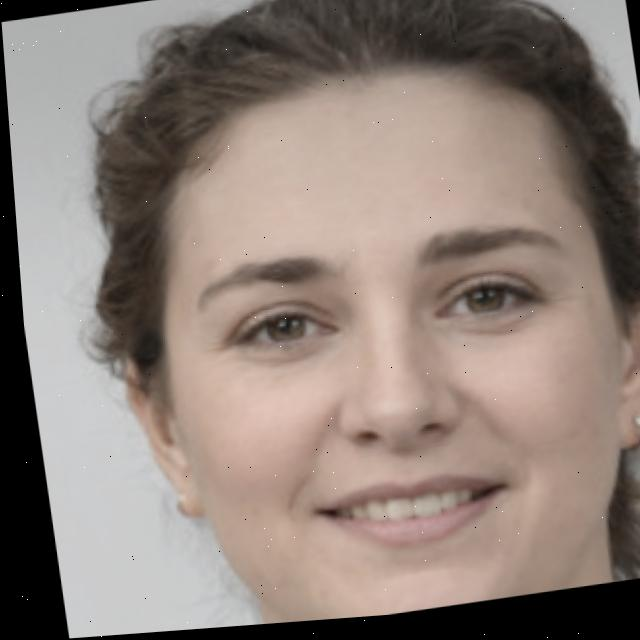happy: (57, 0, 640, 637)
